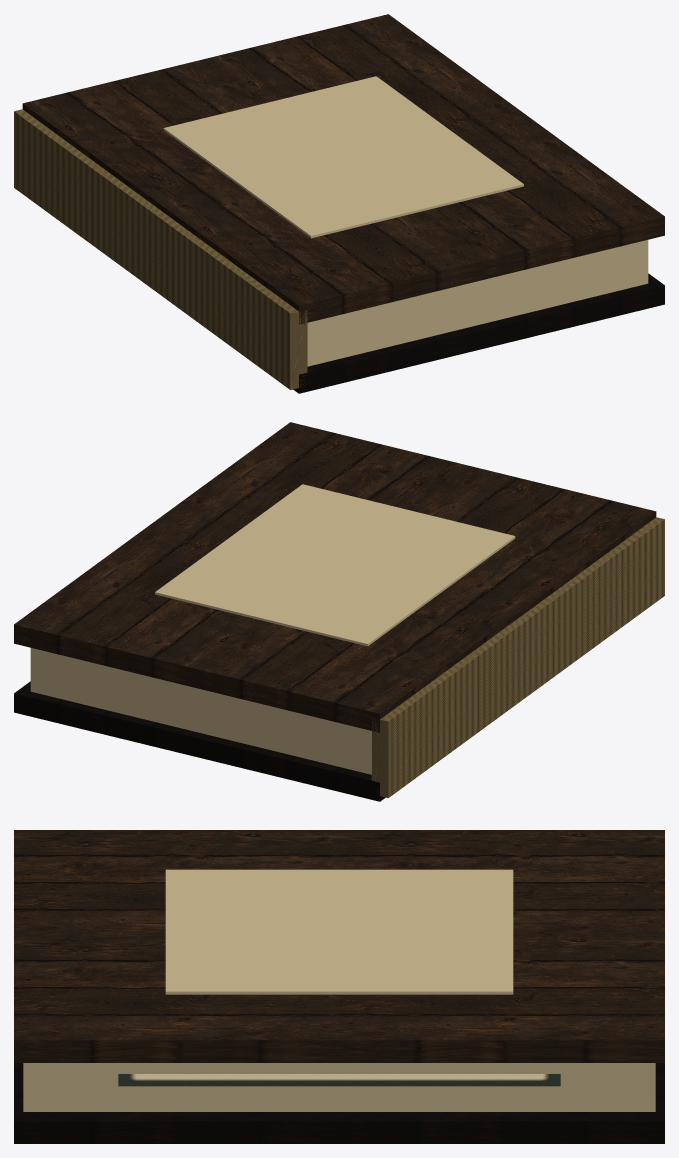
The picture shows the model from 3 angles, top to bottom: view 1: azimuth 30°, elevation 25°; view 2: azimuth 150°, elevation 25°; view 3: azimuth 270°, elevation 25°; orthographic projection. The views are drawn at different scales.
Visible parts, largest first — view 1: c-diary; view 2: c-diary; view 3: c-diary.
Part boxes in pixels (<box>): c-diary: <box>14,14,664,393</box>; c-diary: <box>14,422,664,801</box>; c-diary: <box>14,830,664,1143</box>.
Bounding box in the file's own units: 0.24 × 0.055 × 0.3.
Materials: 5 (4 with a texture image).
